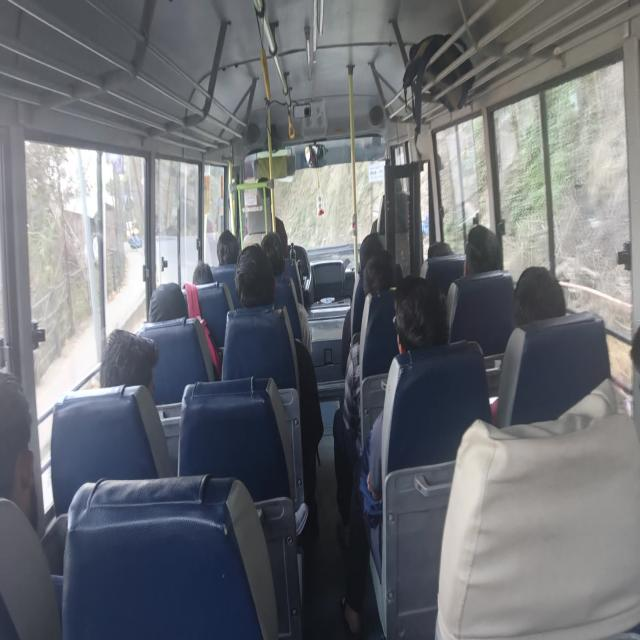person: (502, 270, 609, 356), (0, 381, 38, 495), (112, 340, 167, 414), (397, 289, 437, 361), (240, 247, 276, 310), (137, 281, 191, 322), (366, 260, 412, 306), (605, 310, 640, 365), (213, 221, 250, 268), (466, 234, 497, 280), (182, 261, 216, 294), (365, 238, 400, 267), (424, 251, 457, 273), (266, 225, 280, 262)
